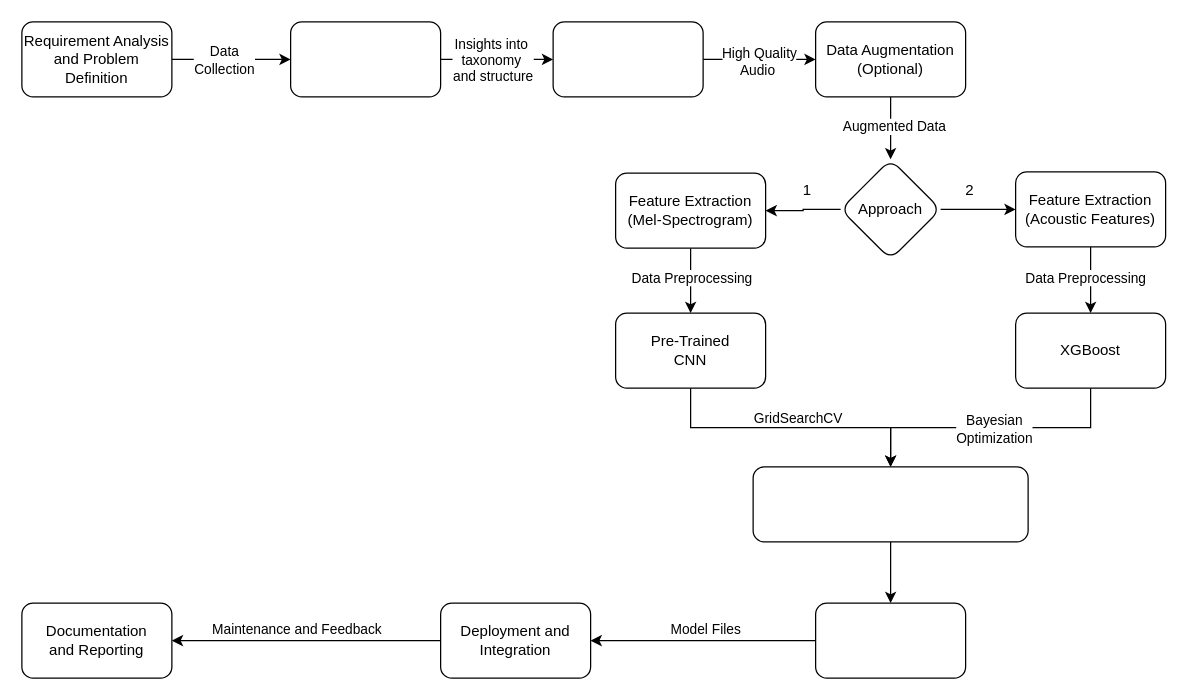
The diagram is 1188 pixels wide and 700 high, and some of its shapes have lost their labels. The centre of each missing label's shape, as x and y in pixels:
"Data Filtering" belongs at [627,59].
"Exploratory Data Analysis (EDA)" belongs at [365,59].
"Model Evaluation and Validation" belongs at [890,640].
"Model Training and Hyperparameter Tuning" belongs at [890,504].
